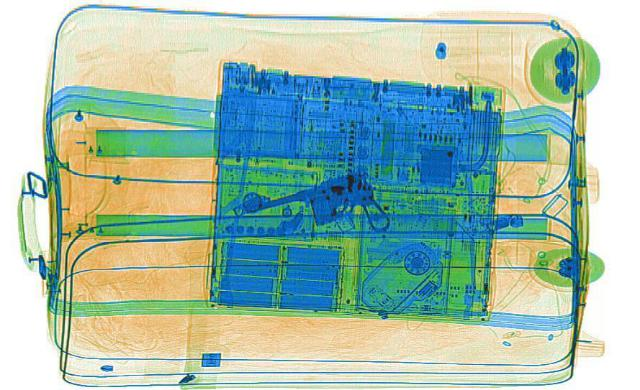Gun: (230, 166, 410, 258)
